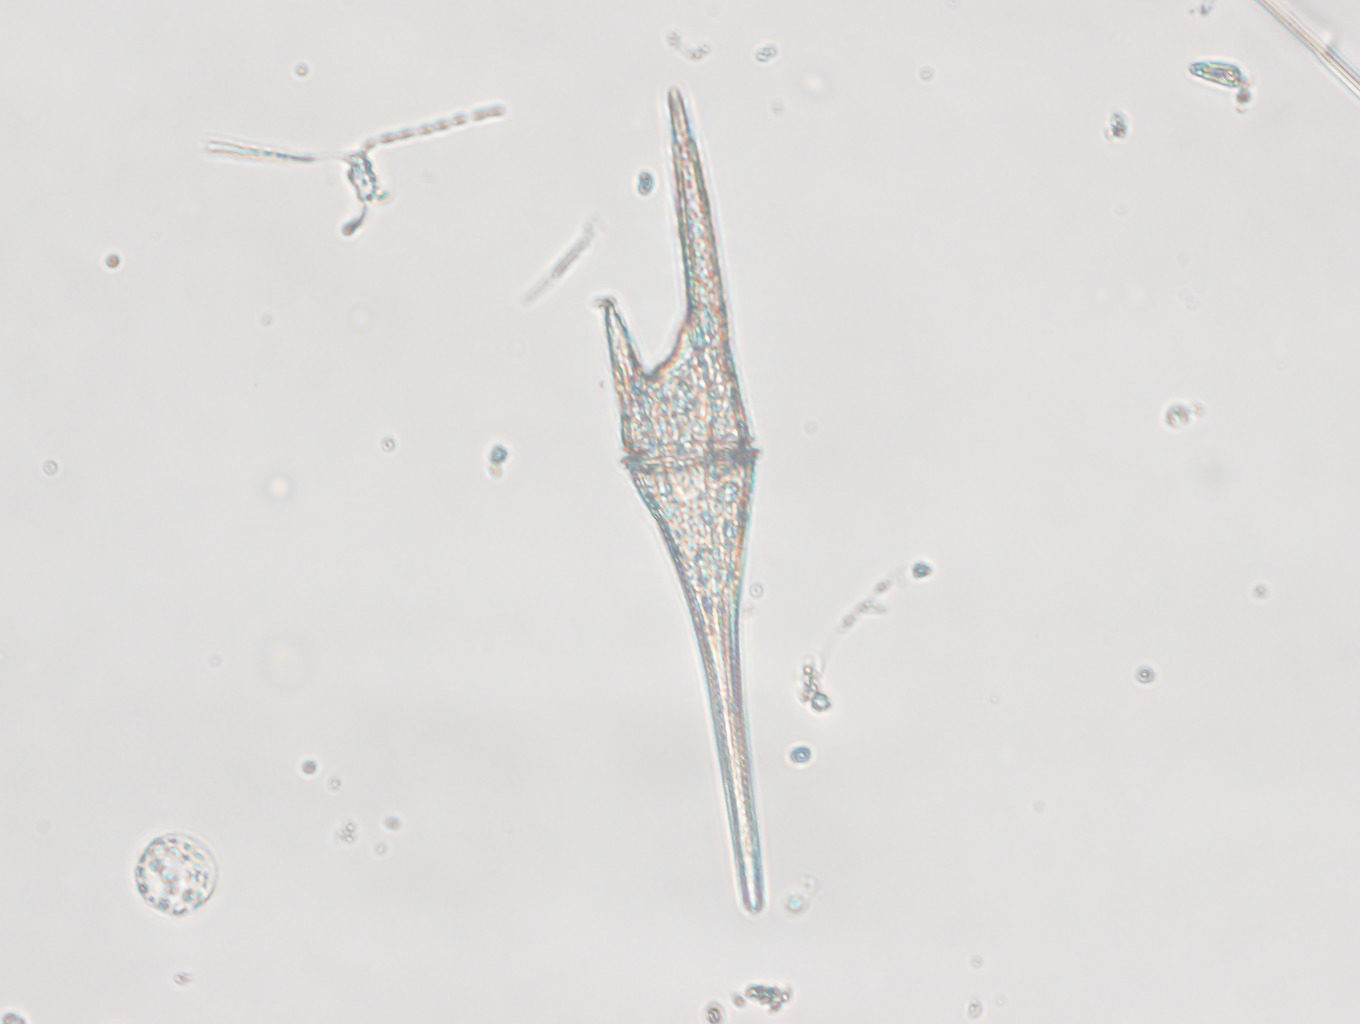ceratium furca: (601, 84, 765, 918)
